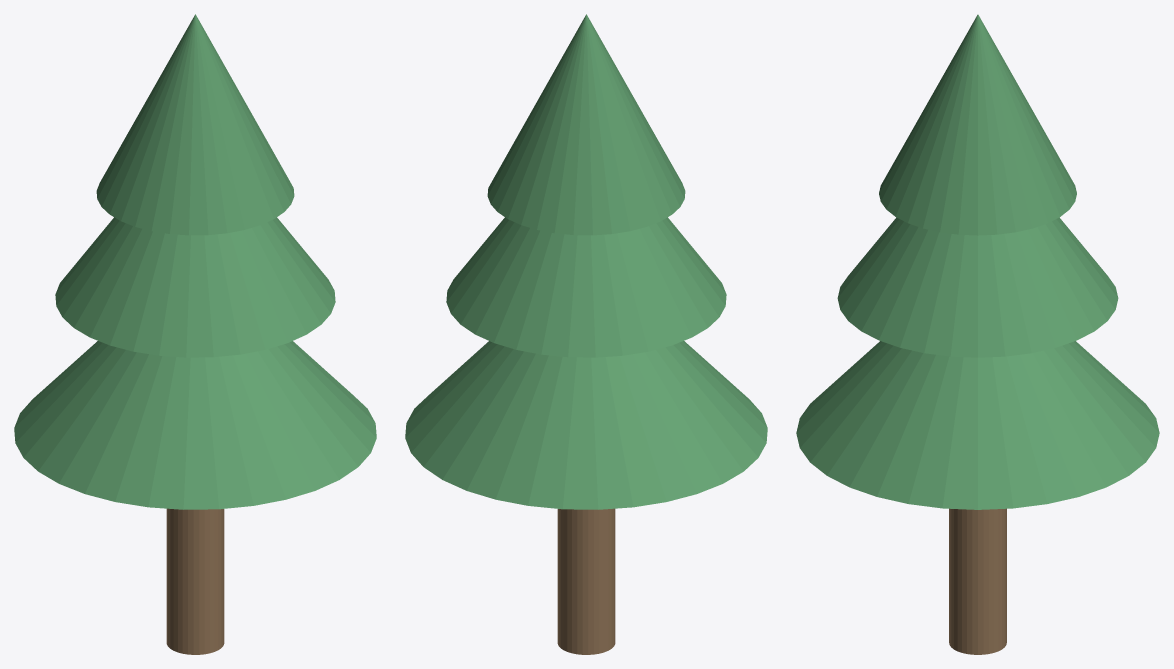
File: pine_tree.glb
3 views of the same model, side by side, from view 1: azimuth 30°, elevation 25°; view 2: azimuth 150°, elevation 25°; view 3: azimuth 270°, elevation 25° (orthographic).
Parts seen in each view (by area): view 1: PineTree; view 2: PineTree; view 3: PineTree.
Part boxes in pixels (x1=…): PineTree: x1=14, y1=14, x2=376, y2=654; PineTree: x1=405, y1=14, x2=767, y2=654; PineTree: x1=796, y1=14, x2=1159, y2=654.
Bounding box in the file's own units: 4.4 × 8.4 × 4.4.
